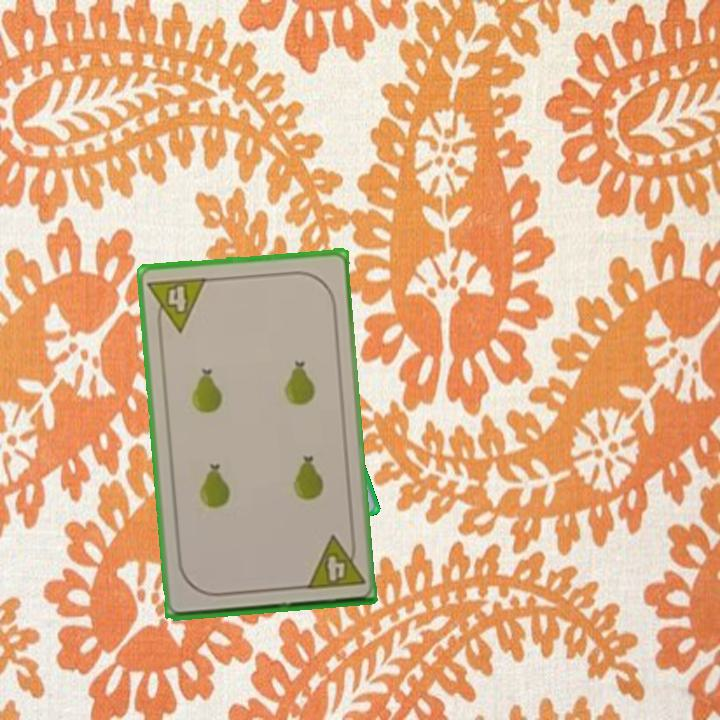4p: (144, 273, 210, 336), (302, 532, 367, 592)
